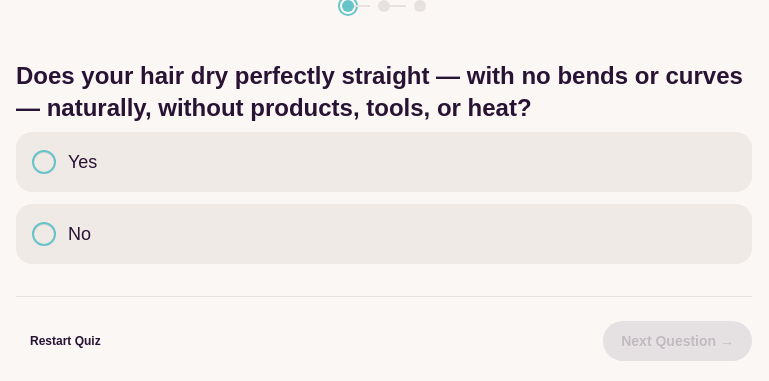
Test: NewQuiz Component › Quiz navigation › Next button is enabled when answer selected
Expected: the heading "Does your hair dry perfectly straight" is shown, x1=16 y1=62 x2=743 y2=121
Click the radio button labelled "Yes": [44, 162] box x1=32 y1=150 x2=56 y2=174
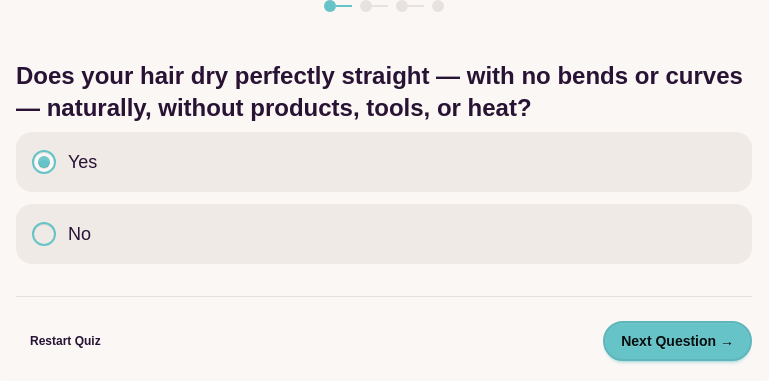
Expected: the button "Next Question →" is enabled, x1=603 y1=321 x2=752 y2=361
